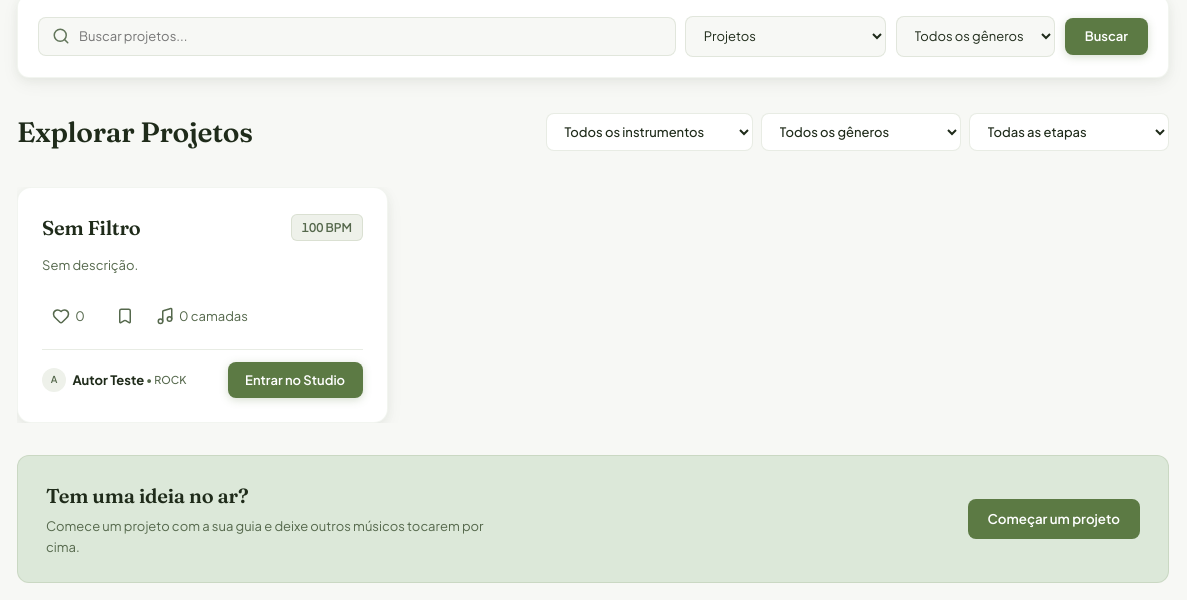
Test: Feed › com filtro ativo e sem resultado, oferece limpar os filtros
Expected: the link "Sem Filtro" is shown, [42,215,140,240]
Select "Jazz" in the dropdown named "Gênero" at (861, 132), box [761,113,961,151]
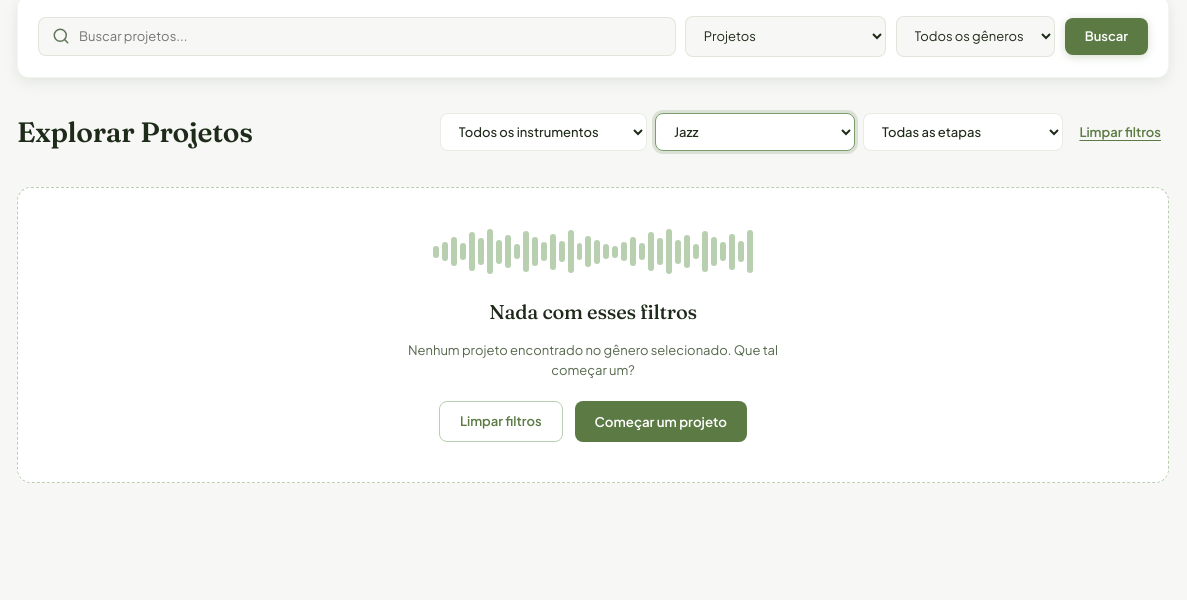
Result: the heading "Nada com esses filtros" is shown at [489,296,697,328]
Click the button "Limpar filtros" in the row of "Explorar Projetos" at (1120, 132), box [1071,113,1169,151]
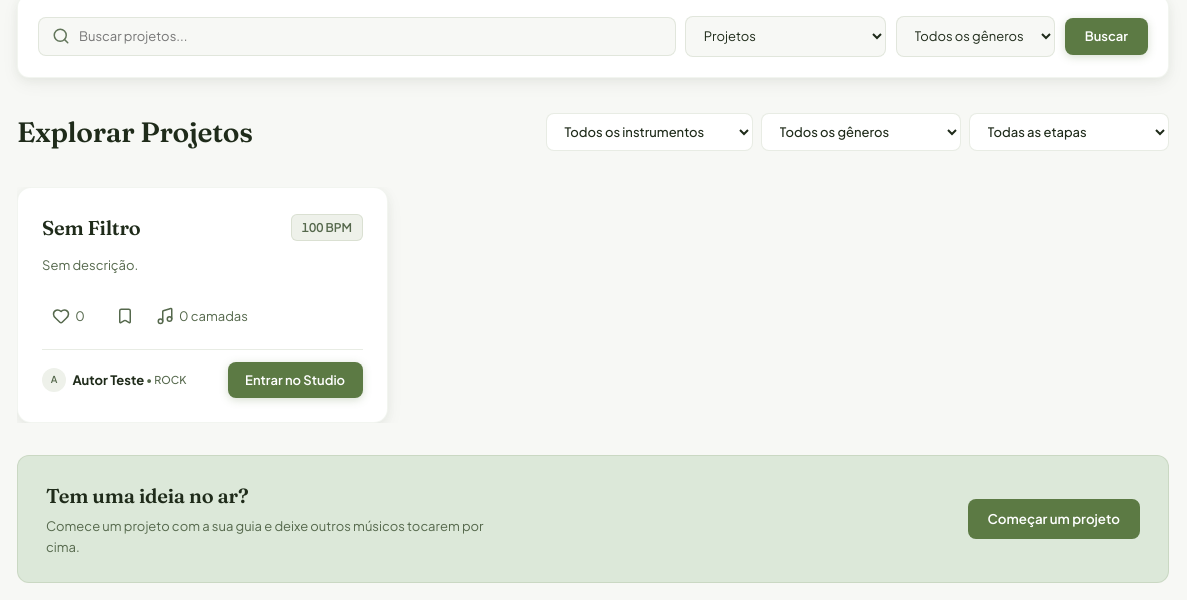
Result: the link "Sem Filtro" is shown at [42,215,140,240]
